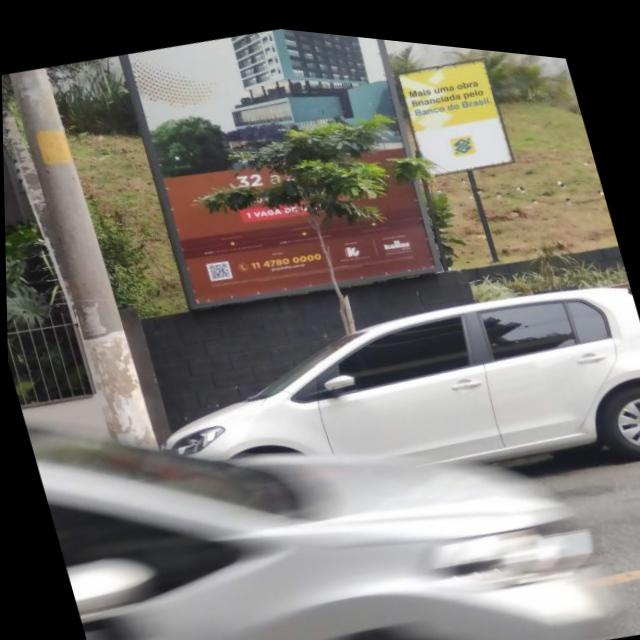qrcode: (209, 258, 230, 277)
